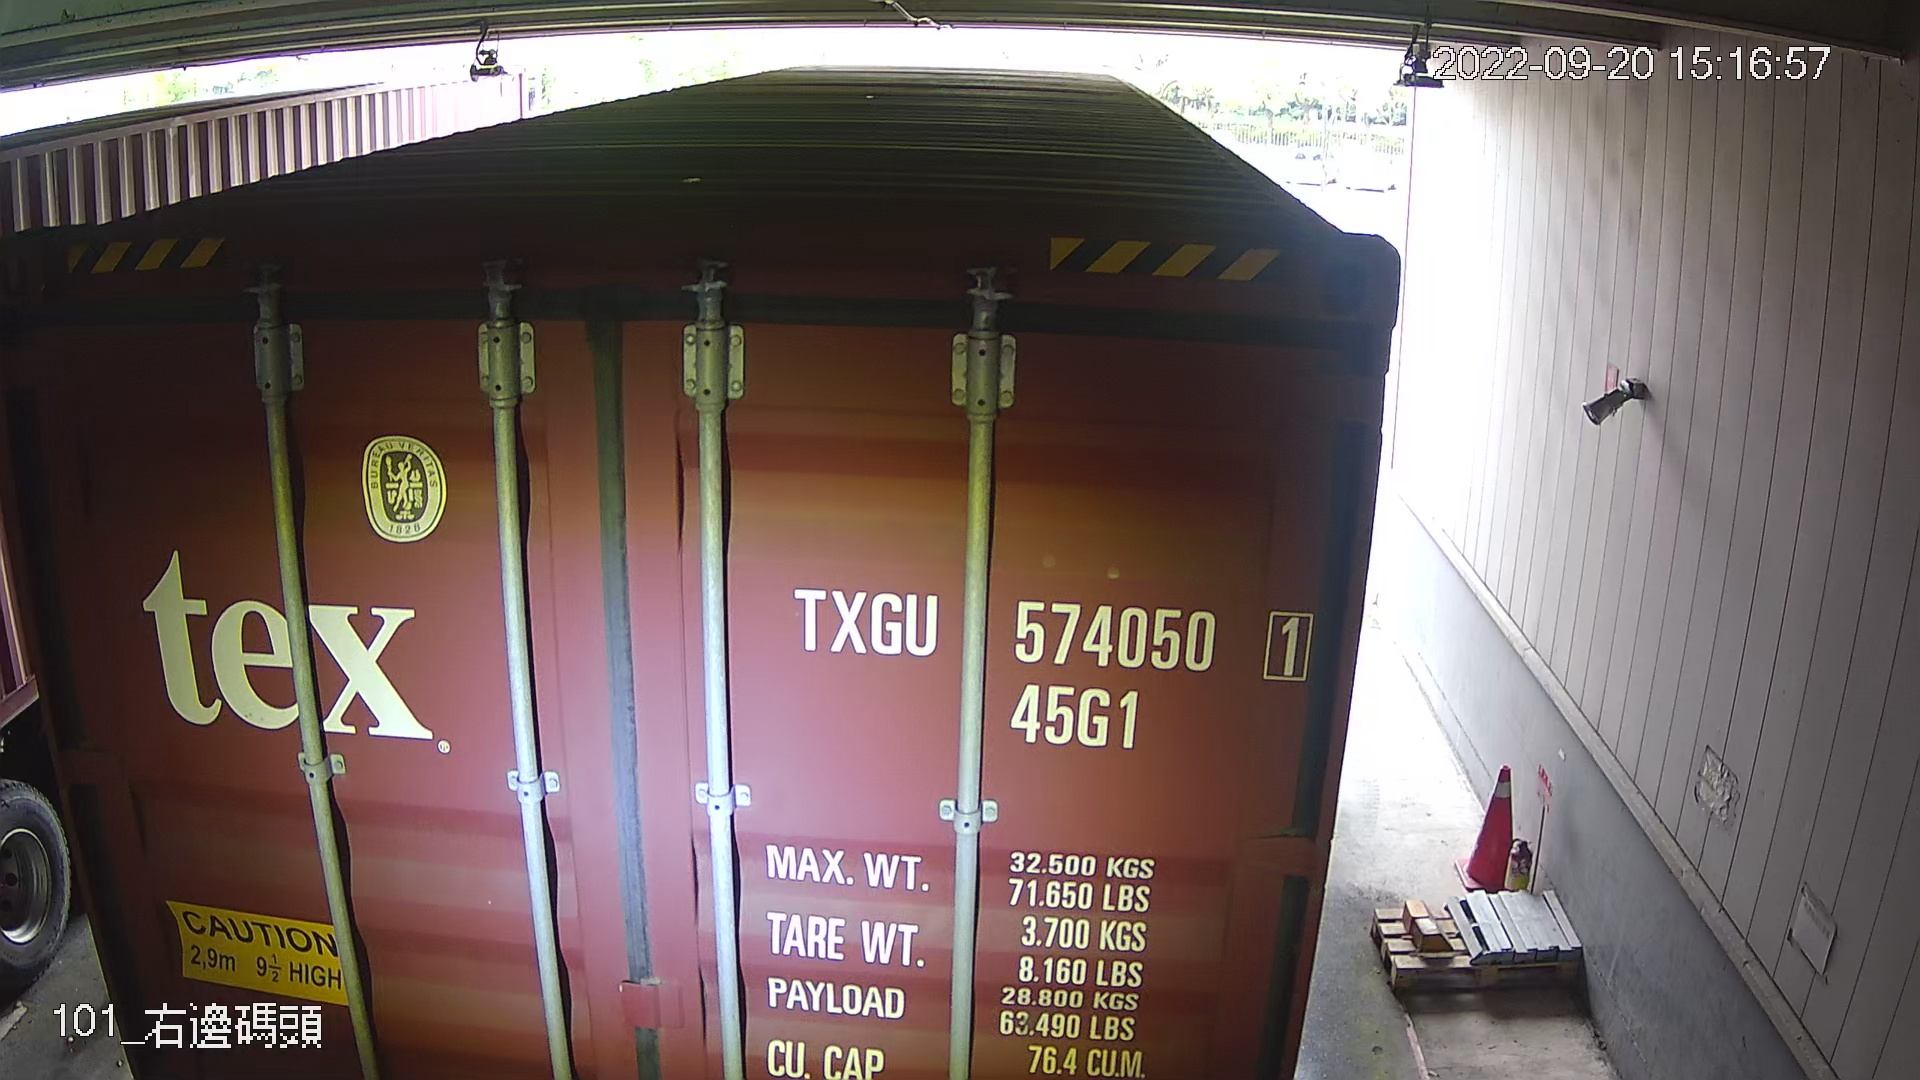container: (766, 564, 1327, 758)
